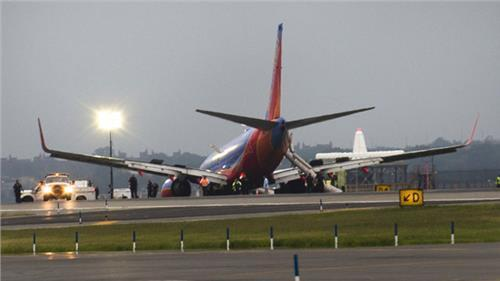airplane: (34, 22, 480, 210)
